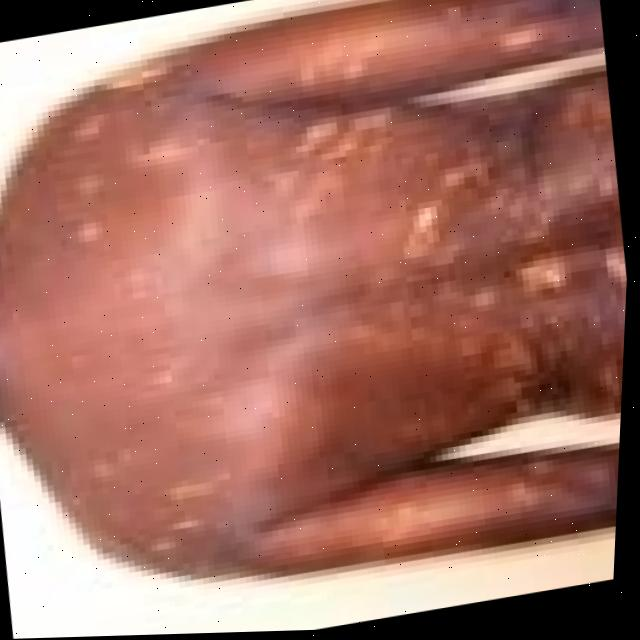Melasma: (292, 80, 636, 473)
